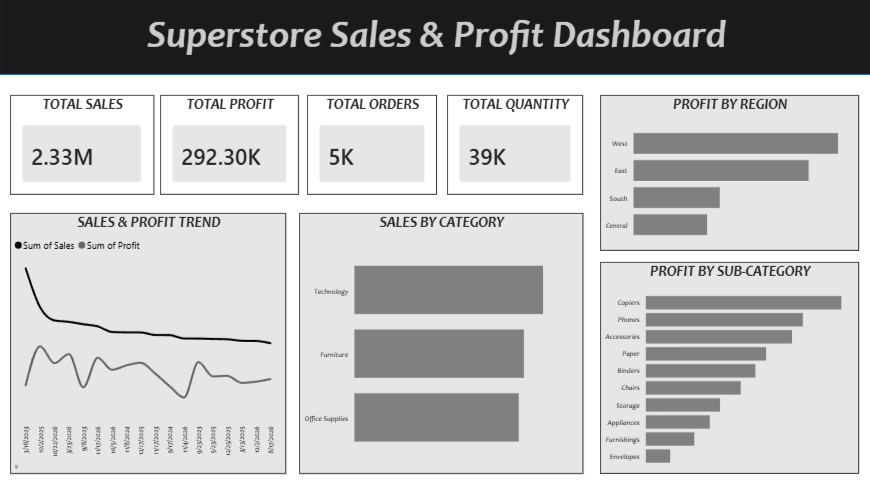

Layout of this report page (visuals, bound fields, positions):
{"tool":"powerbi","page":{"name":"Executive Overview","canvas":[1280,720],"ordinal":0},"visuals":[{"type":"shape","title":"Business Intelligence Report","box":[0,0,1280.5,120],"z":0},{"type":"cardVisual","title":"TOTAL SALES","fields":{"Data":["Sum(samplesuperstore.Sales)"]},"box":[16.1,149.3,210.7,146.3],"z":1000},{"type":"cardVisual","title":"TOTAL PROFIT","fields":{"Data":["Sum(samplesuperstore.Profit)"]},"box":[235.6,149.3,203.4,146.3],"z":2000},{"type":"cardVisual","title":"TOTAL ORDERS","fields":{"Data":["samplesuperstore.Total Orders"]},"box":[450.7,149.3,190.2,146.3],"z":3000},{"type":"cardVisual","title":"TOTAL  QUANTITY","fields":{"Data":["Sum(samplesuperstore.Quantity)"]},"box":[655.6,149.3,199,146.3],"z":4000},{"type":"lineChart","title":"SALES & PROFIT TREND","fields":{"Category":["samplesuperstore.Order Date"],"Y":["Sum(samplesuperstore.Sales)","Sum(samplesuperstore.Profit)"]},"box":[16.1,322,403.9,382],"z":5000},{"type":"clusteredBarChart","title":" SALES BY CATEGORY","fields":{"Category":["samplesuperstore.Category"],"Y":["Sum(samplesuperstore.Sales)"]},"box":[439,322,415.6,382],"z":6000},{"type":"clusteredBarChart","title":"PROFIT  BY REGION","fields":{"Y":["Sum(samplesuperstore.Profit)"],"Category":["samplesuperstore.Region"]},"box":[879.5,149.3,379,228.3],"z":7000},{"type":"clusteredBarChart","title":"PROFIT BY SUB-CATEGORY","fields":{"Category":["samplesuperstore.Sub-Category"],"Y":["Sum(samplesuperstore.Profit)"]},"box":[879.5,393.7,379,310.2],"z":8000}]}

Visuals, with their boxes in screenshot pixels (x1, y1, x2, y2), scaled from the page's 1280x720 canvas onto the 870x484 screenshot:
"Business Intelligence Report" shape: crop(0, 0, 869, 81)
"TOTAL SALES" cardVisual: crop(11, 100, 154, 199)
"TOTAL PROFIT" cardVisual: crop(160, 100, 298, 199)
"TOTAL ORDERS" cardVisual: crop(306, 100, 436, 199)
"TOTAL  QUANTITY" cardVisual: crop(446, 100, 581, 199)
"SALES & PROFIT TREND" lineChart: crop(11, 216, 285, 473)
" SALES BY CATEGORY" clusteredBarChart: crop(298, 216, 581, 473)
"PROFIT  BY REGION" clusteredBarChart: crop(598, 100, 855, 254)
"PROFIT BY SUB-CATEGORY" clusteredBarChart: crop(598, 265, 855, 473)
